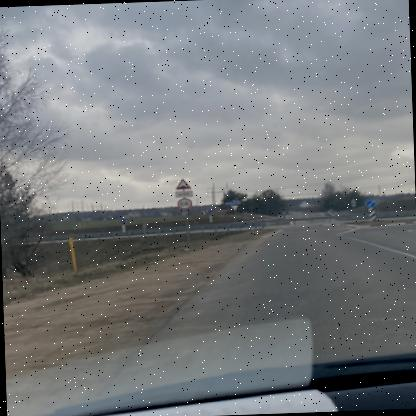speedlimit: (178, 198, 194, 208)
